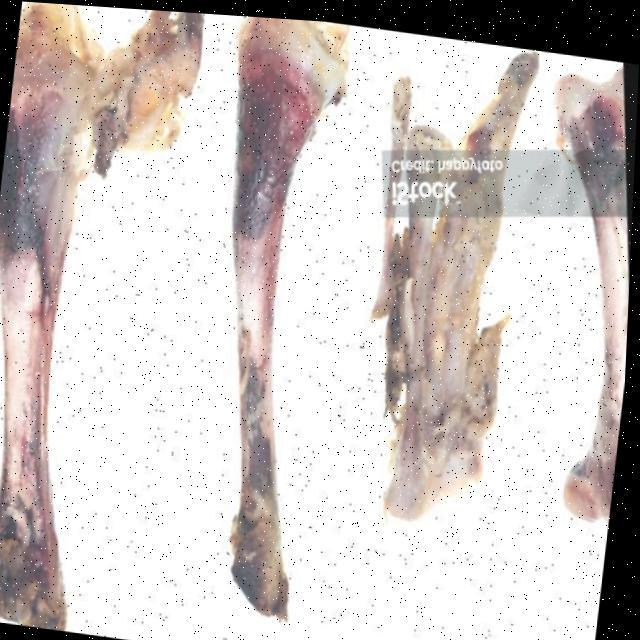Wet Waste: (0, 0, 287, 640), (148, 8, 429, 632), (320, 24, 594, 542), (500, 49, 639, 526)
